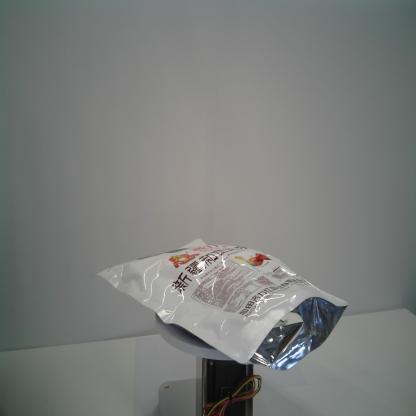Dried Food: (97, 236, 352, 374)
